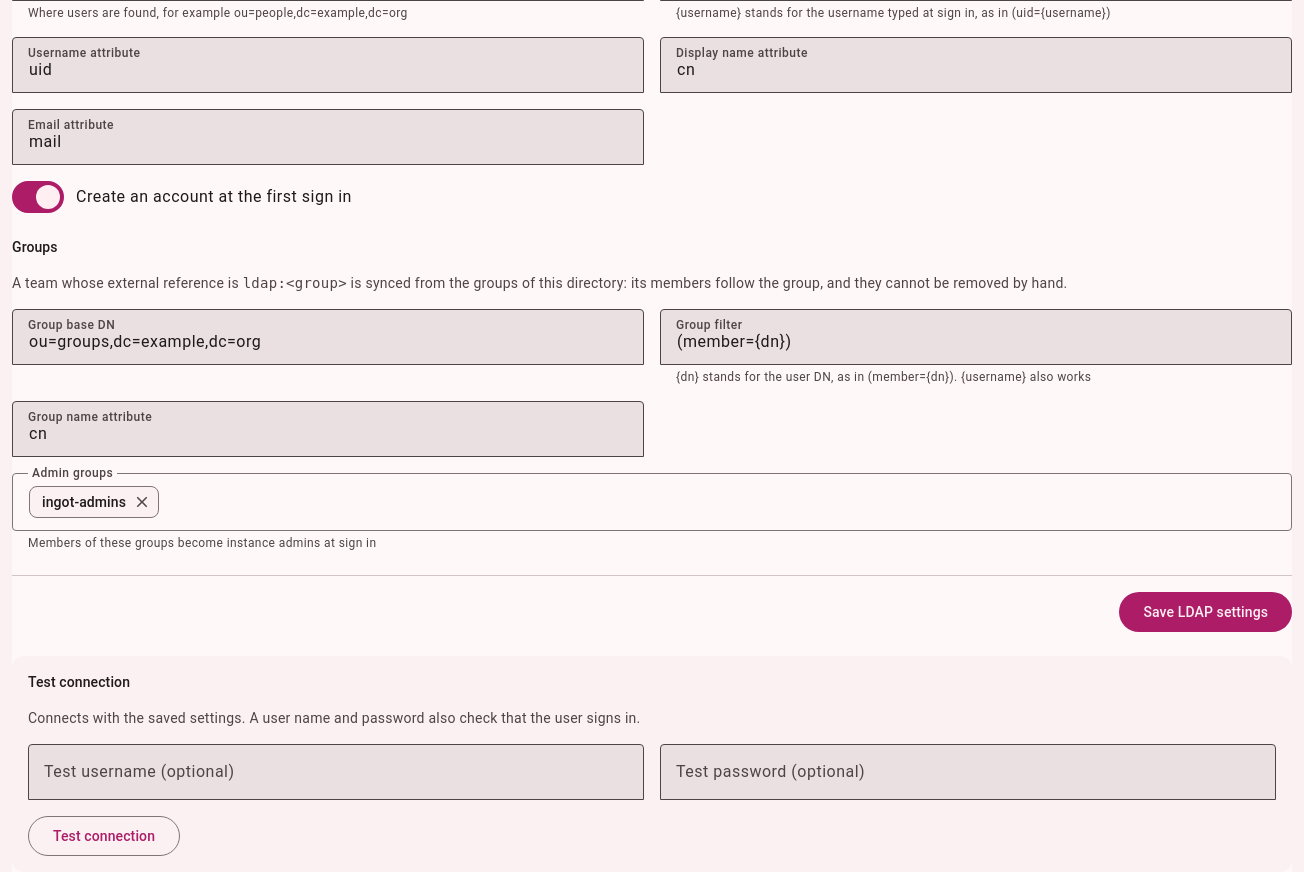
Scenario: LdapPanel › test connection › shows the user it found and the groups it has
(page scrolled)
Click the button "Test connection". click: (104, 836)
box: x1=28 y1=816 x2=180 y2=856
(page scrolled)
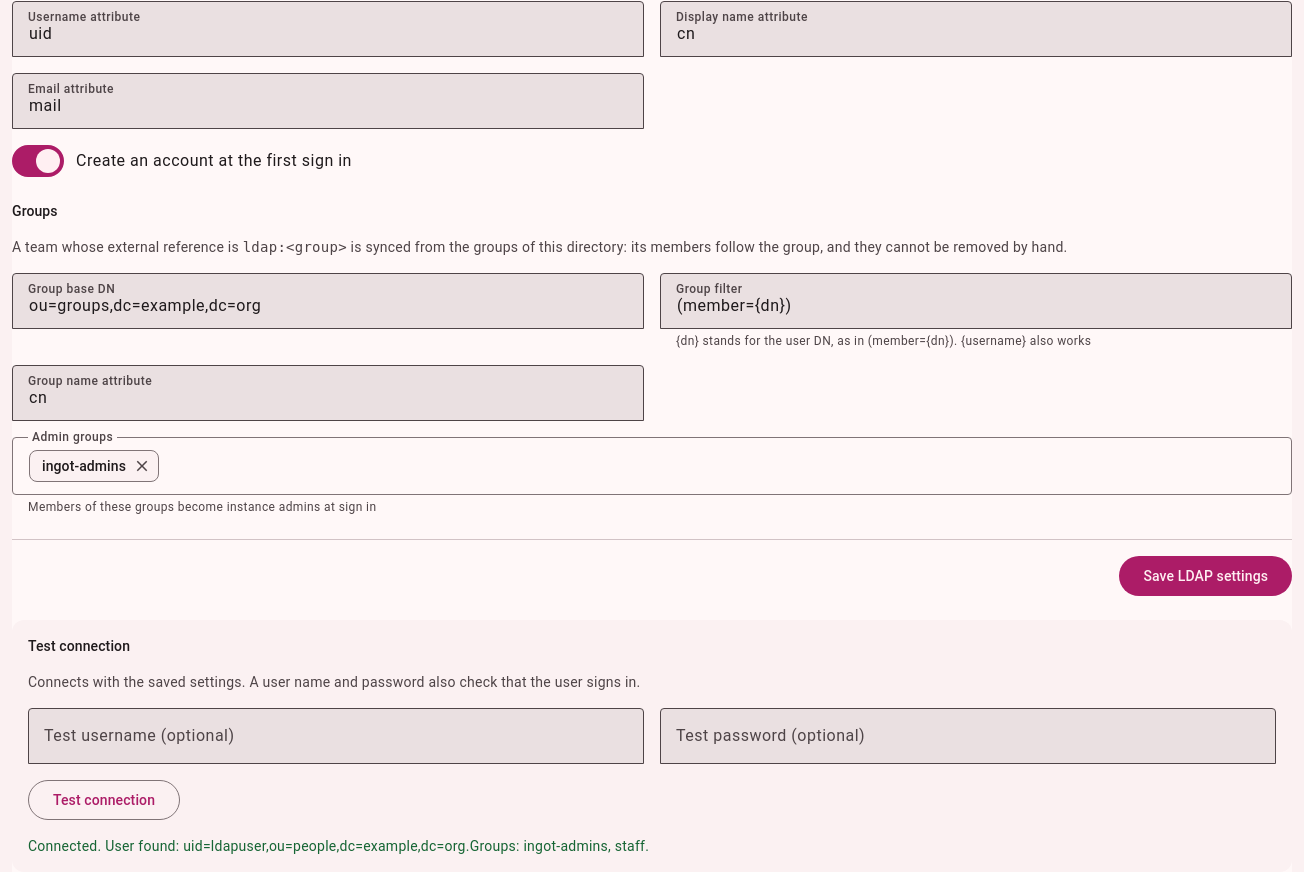
Expected: the message with test id "ldap-test-result" shows "User found: uid=ldapuser,ou=people,dc=example,dc=org.", x1=105 y1=838 x2=470 y2=854
Expected: the message with test id "ldap-test-result" shows "Groups: ingot-admins, staff.", x1=470 y1=838 x2=649 y2=854
